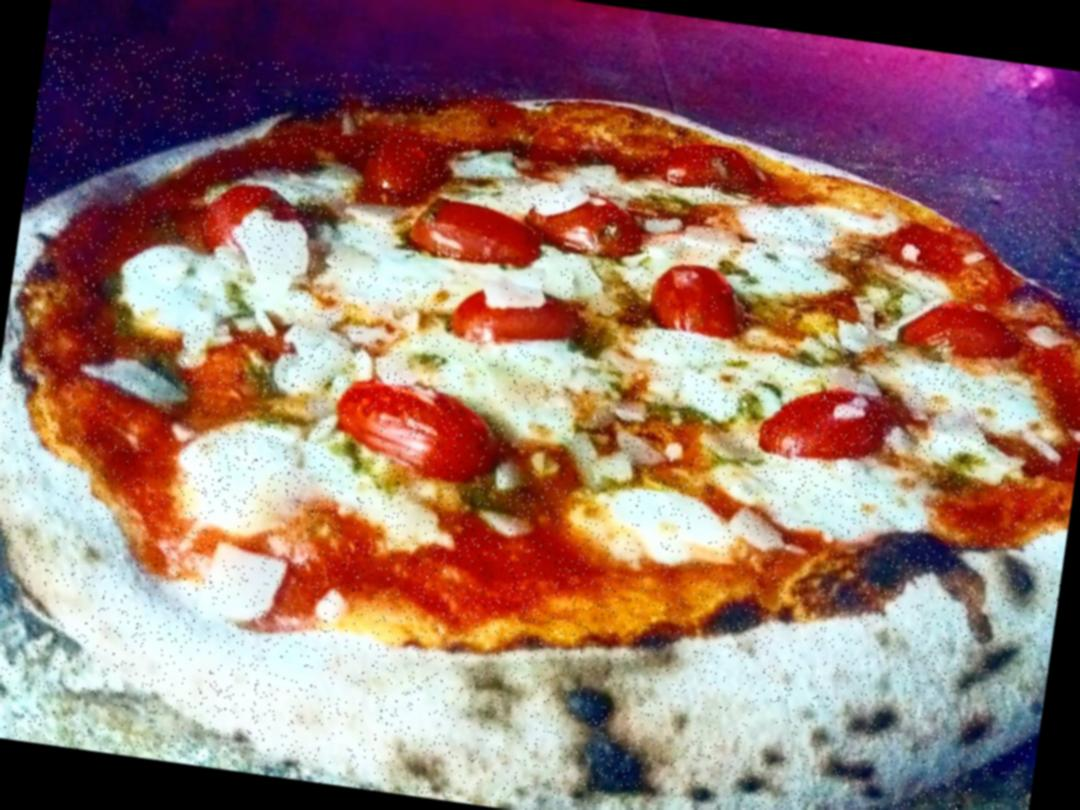Cheese: (622, 324, 790, 422), (593, 484, 769, 566), (135, 249, 294, 337), (419, 337, 606, 408), (340, 242, 558, 298), (200, 430, 338, 518), (902, 370, 1017, 468), (283, 291, 369, 396), (755, 470, 886, 525), (748, 210, 842, 284)
Pizza: (0, 29, 1080, 810)
Tomatoes: (332, 380, 508, 485), (758, 375, 896, 470), (525, 173, 640, 261), (896, 294, 1024, 368), (199, 176, 307, 256), (450, 285, 580, 351), (648, 259, 746, 341), (368, 125, 459, 210), (410, 199, 534, 259), (652, 138, 758, 192)
